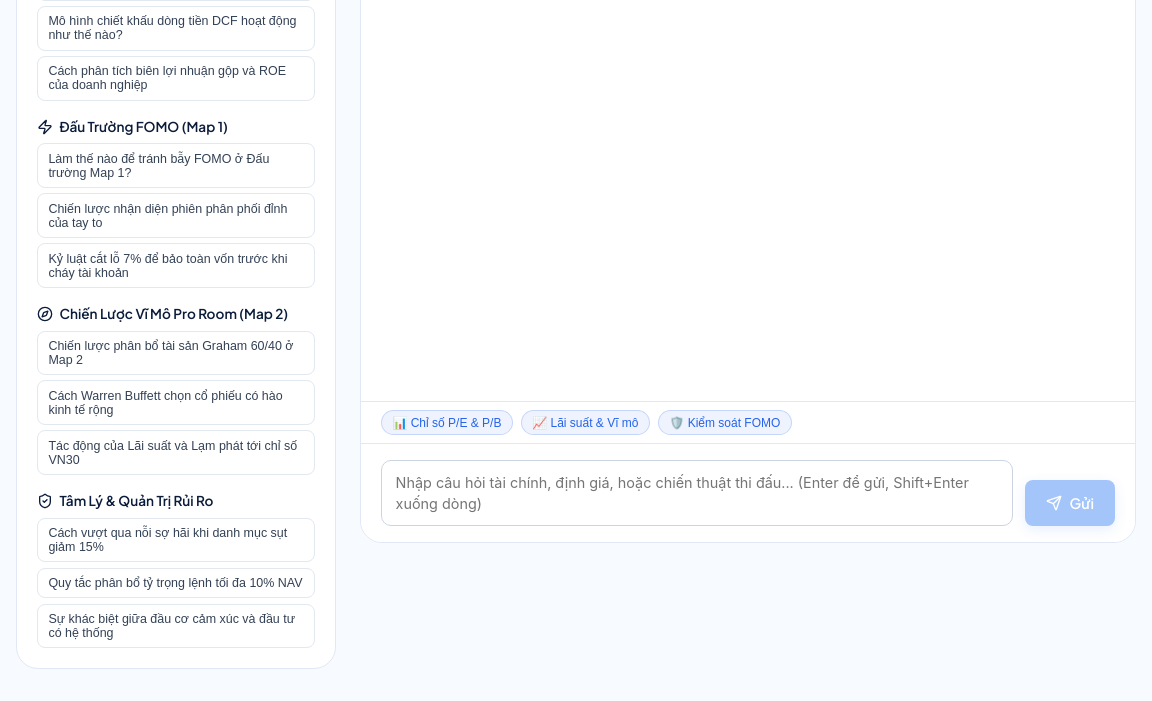
Test: AiStudioPage (FEAT-086: AC-001..AC-004) › submits prompt query and renders AI response stream
(page scrolled)
Replace the text in the text box with placeholder "Nhập câu hỏi tài chính" with "Giải thích P/E" at x=697, y=493, box [381, 460, 1013, 526]
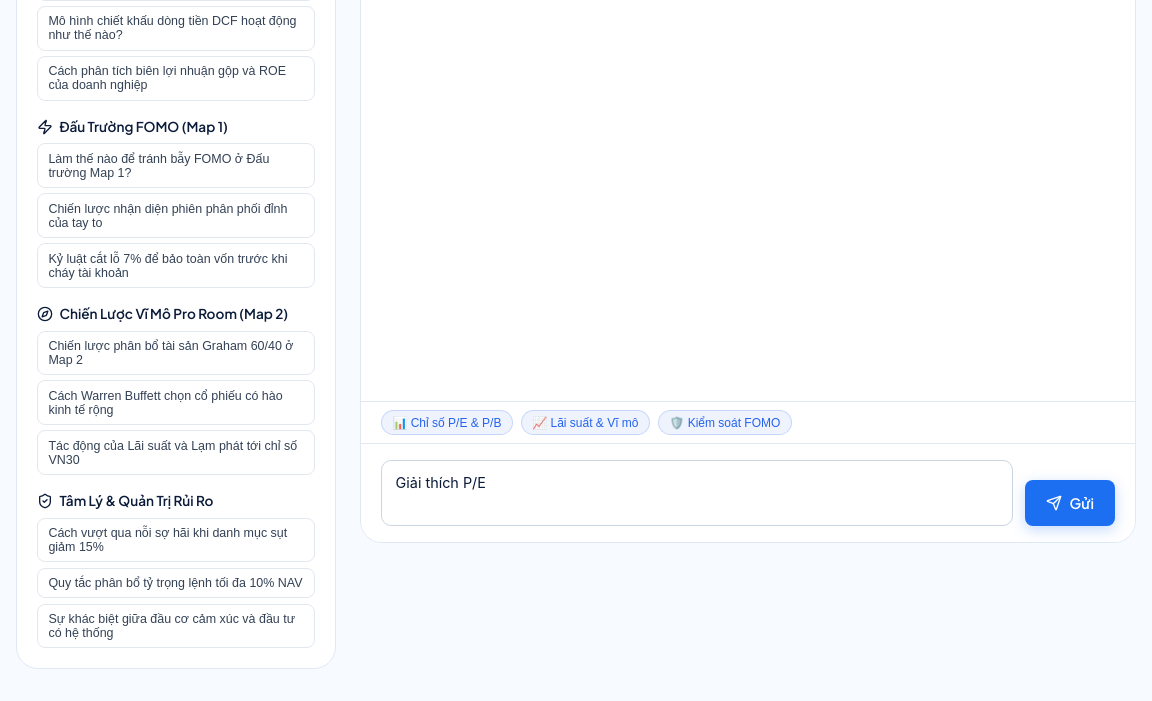
Click the button "Gửi" at x=1070, y=503, box [1025, 480, 1115, 526]
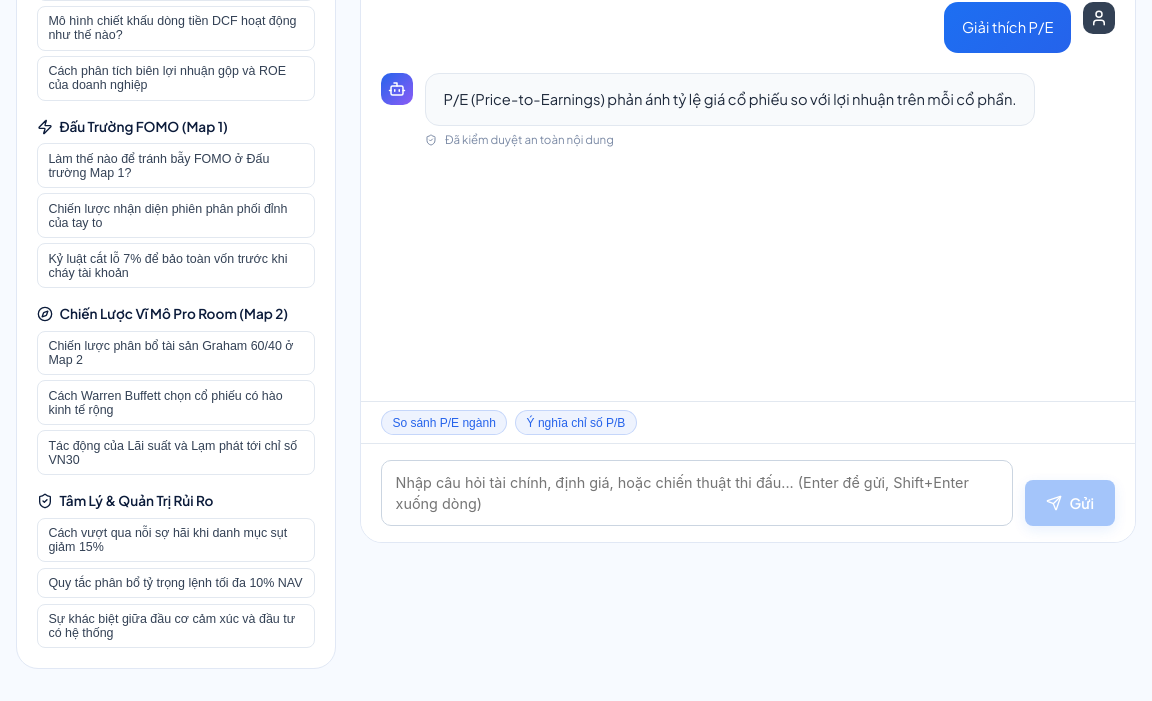
Result: the text "P/E (Price-to-Earnings) phản ánh" is shown at [444, 90, 1017, 108]
